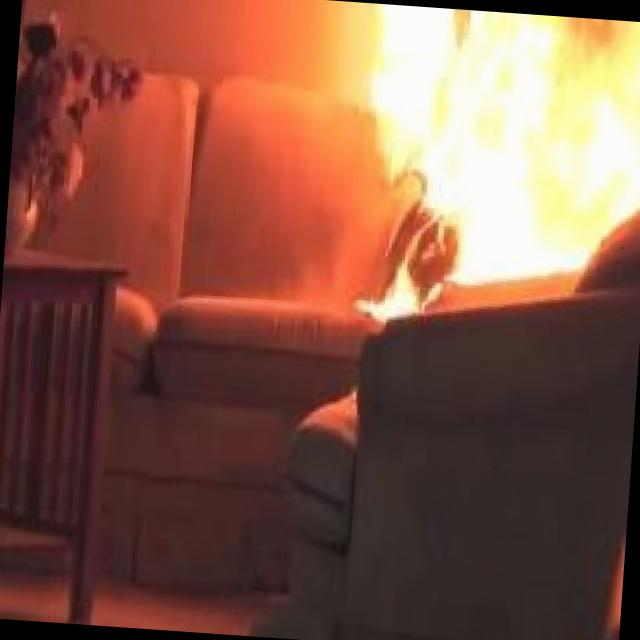fire: (324, 1, 640, 356)
